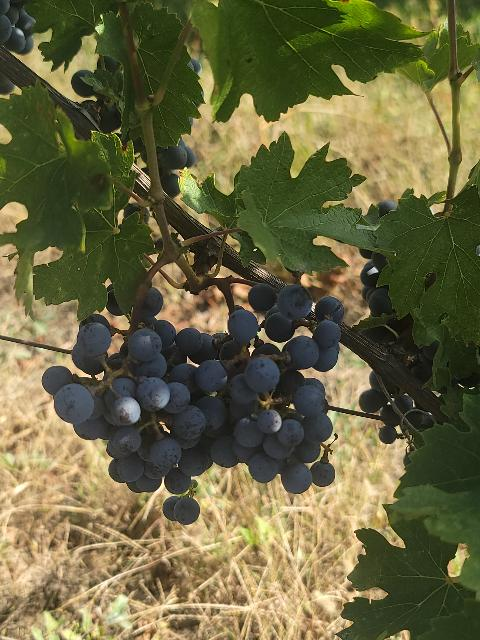grapes: (42, 289, 238, 521), (209, 284, 344, 492)
